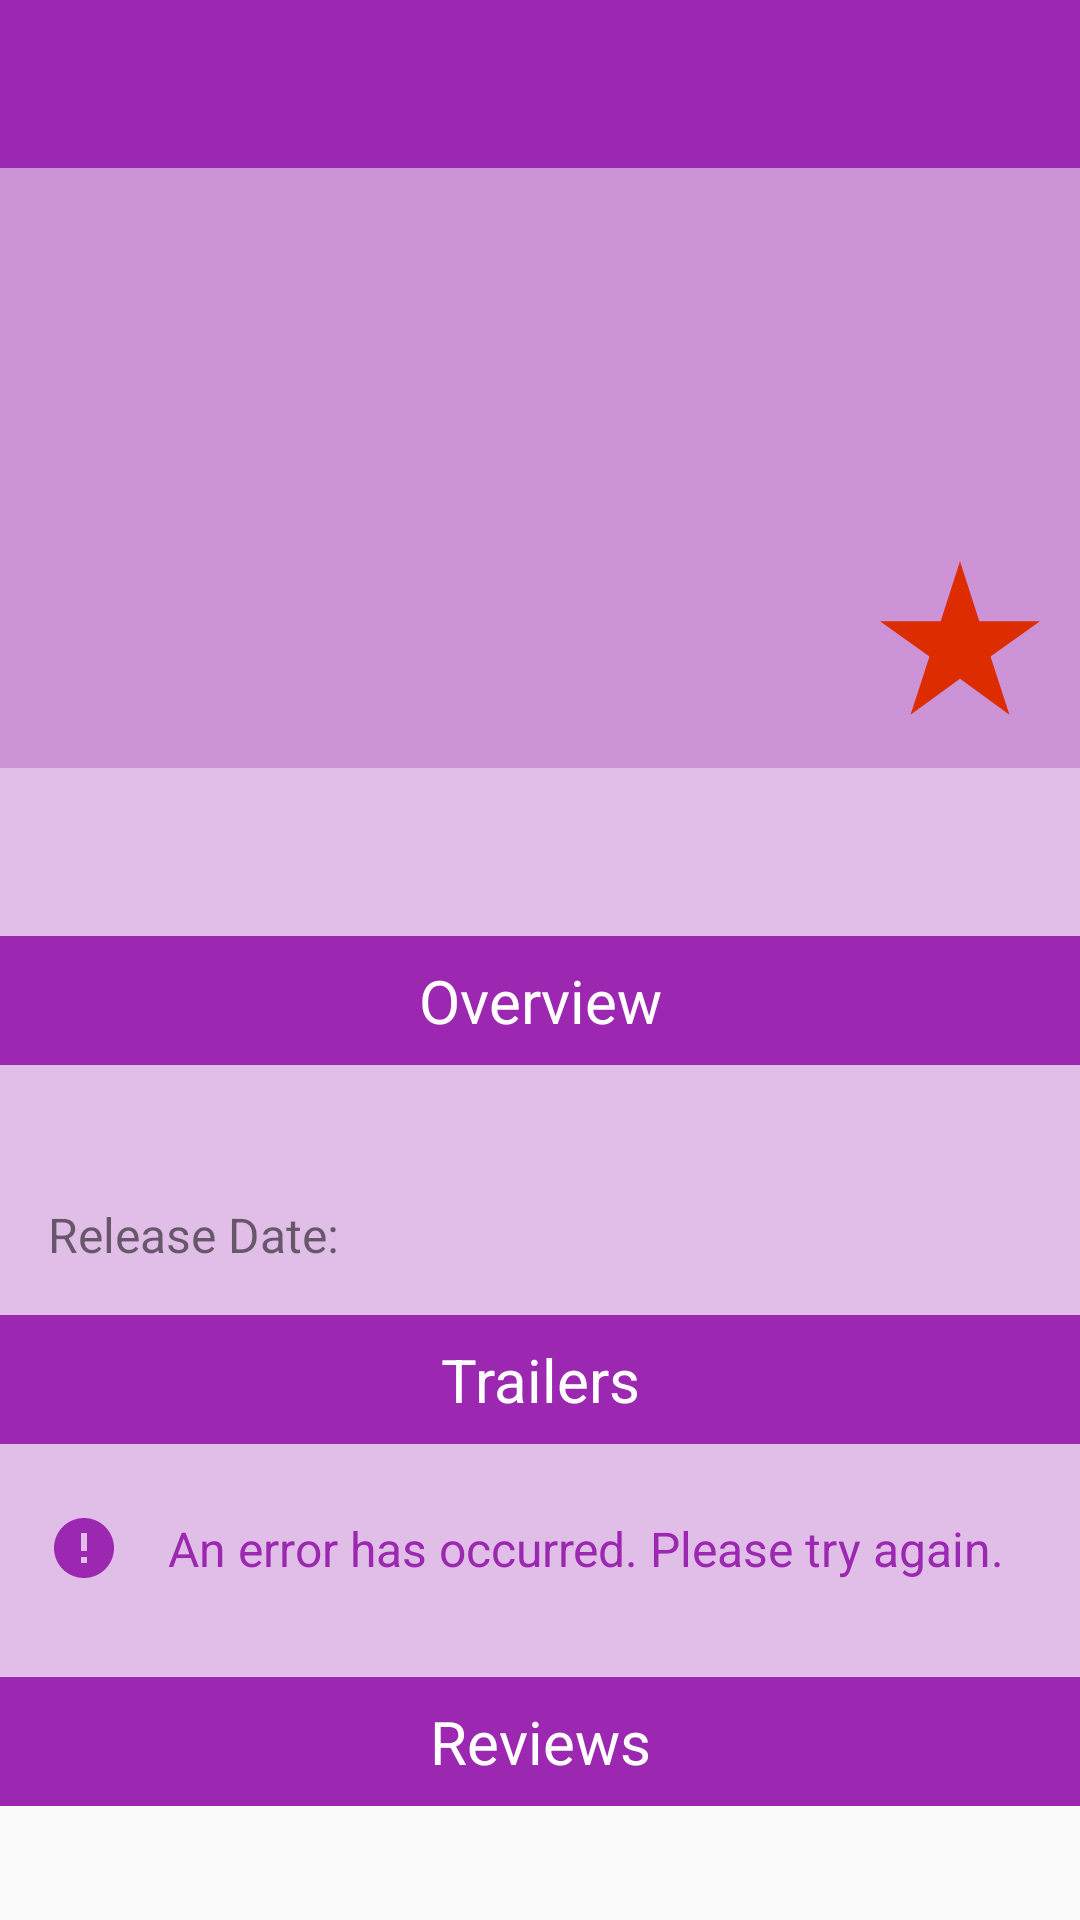

Named icons in this screenshot (1080px x 1920px) and their centers, [x,y]:
star rate: [960,638]
